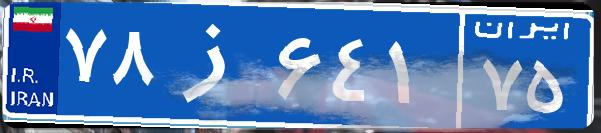1: (385, 28, 445, 110)
4: (330, 28, 385, 110)
5: (525, 38, 570, 115)
6: (273, 28, 330, 110)
7: (57, 26, 110, 107), (475, 38, 525, 113)
8: (110, 28, 158, 105)
ز: (158, 15, 273, 115)
